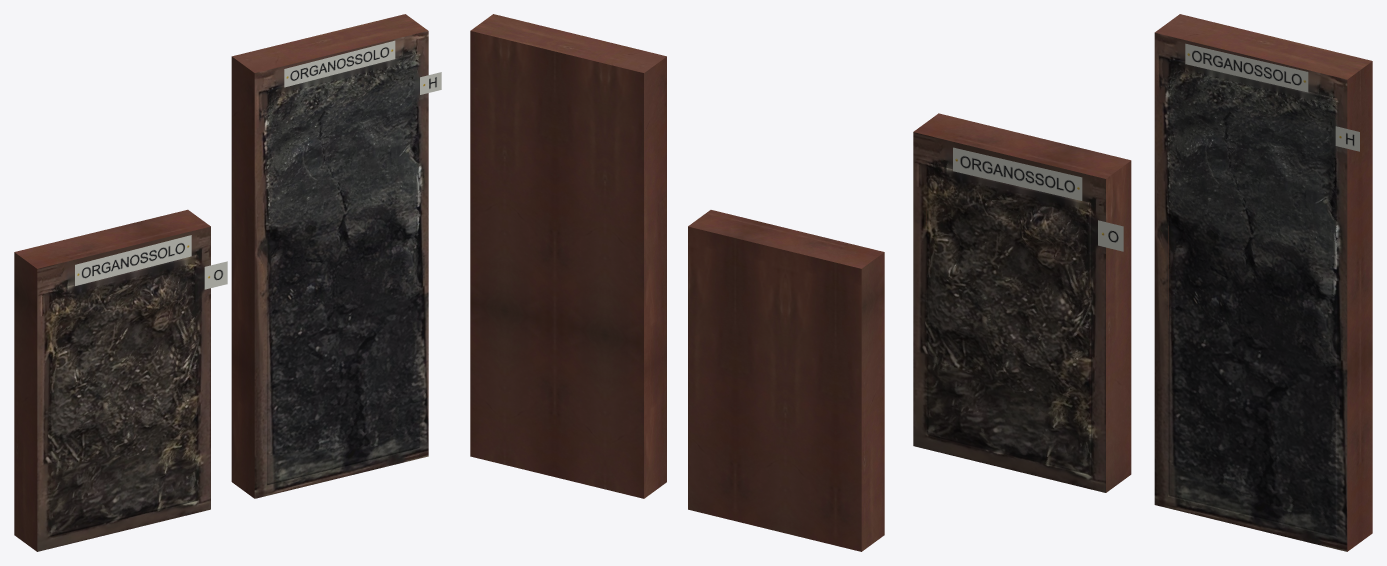
Rendered from perfis_organossolo.glb.
The picture shows the model from 3 angles, left to right: view 1: azimuth 30°, elevation 25°; view 2: azimuth 150°, elevation 25°; view 3: azimuth 330°, elevation 25°; orthographic projection. The views are drawn at different scales.
Visible parts, largest first — view 1: Solo_11_02, Solo_11_01, Madeira_11_02, Moldura_11_02, Madeira_11_01, Moldura_11_01, Rotulos_11_01, Rotulos_11_02; view 2: Madeira_11_02, Madeira_11_01; view 3: Solo_11_02, Solo_11_01, Madeira_11_02, Moldura_11_02, Moldura_11_01, Madeira_11_01, Rotulos_11_01, Rotulos_11_02.
Part boxes in pixels (x1,y1,x2,y2): Solo_11_02: [267, 52, 419, 485]; Solo_11_01: [49, 255, 197, 536]; Madeira_11_02: [231, 14, 427, 498]; Moldura_11_02: [254, 31, 428, 498]; Madeira_11_01: [14, 209, 210, 551]; Moldura_11_01: [37, 226, 210, 551]; Rotulos_11_01: [75, 235, 227, 289]; Rotulos_11_02: [284, 40, 441, 94]; Madeira_11_02: [470, 14, 666, 498]; Madeira_11_01: [688, 210, 884, 551]; Solo_11_02: [1167, 57, 1337, 537]; Solo_11_01: [926, 163, 1090, 475]; Madeira_11_02: [1155, 14, 1372, 551]; Moldura_11_02: [1154, 33, 1347, 551]; Moldura_11_01: [913, 132, 1105, 492]; Madeira_11_01: [913, 113, 1131, 492]; Rotulos_11_01: [953, 147, 1123, 251]; Rotulos_11_02: [1185, 43, 1359, 151].
Bounding box in the file's own units: 0.7403 × 0.7462 × 0.0884.
8 materials, 8 textured.
